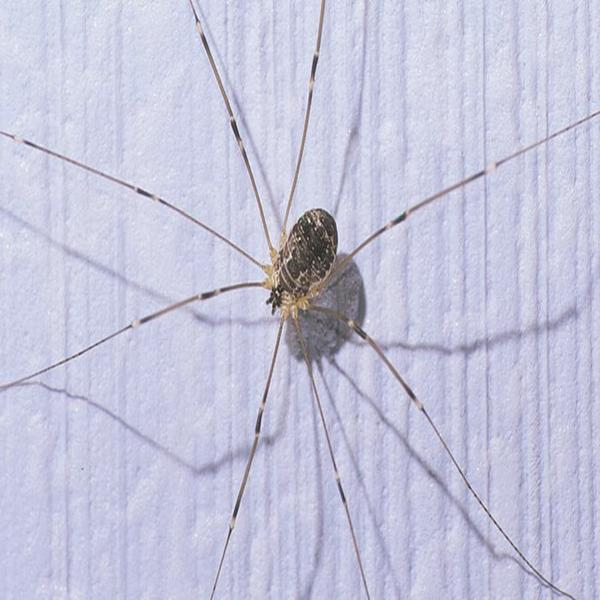Daddy Long Legs Spider: (16, 5, 596, 594)
